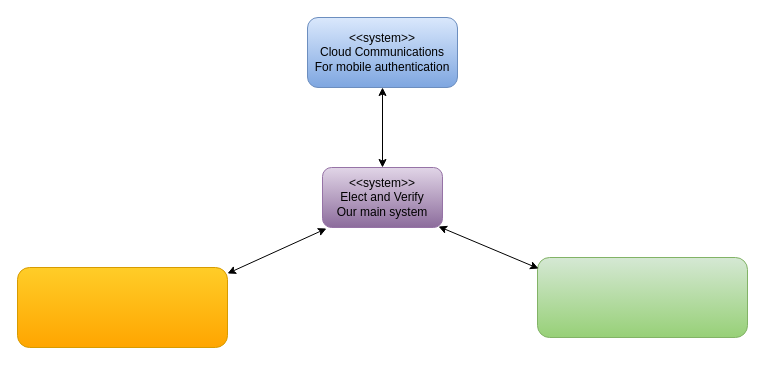
The diagram is 765 pixels wide and 365 high, and some of its shapes have lost their labels. Each missing label, with the centre of its shape:
<<Database>> Citizens Central Database Already Existing Database: pixel 122 307
<<system>> Accounting and Payment System Candidate Campaigning Payment: pixel 642 297
